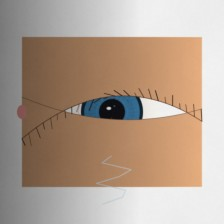foreign_body_visible: (90, 64, 137, 103)
